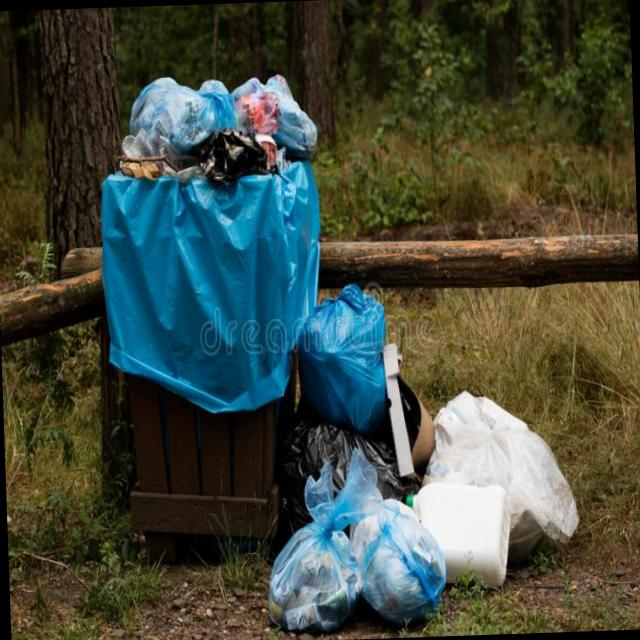garbage: (83, 27, 585, 640)
